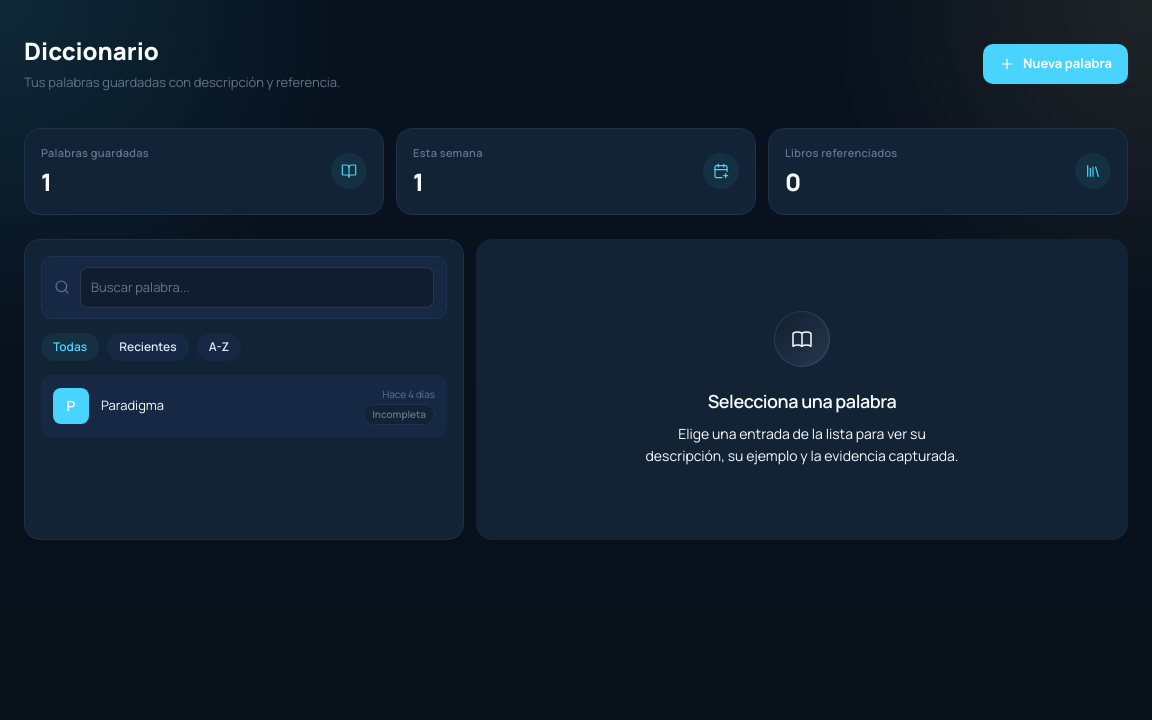
Test: DictionaryView detail panel (4C) › shows the empty state for a selected entry with no fields at all
The width and height of the screenshot is (1152, 720).
Click the button with test id "dictionary-row" at [71, 406], box [41,375,447,437]
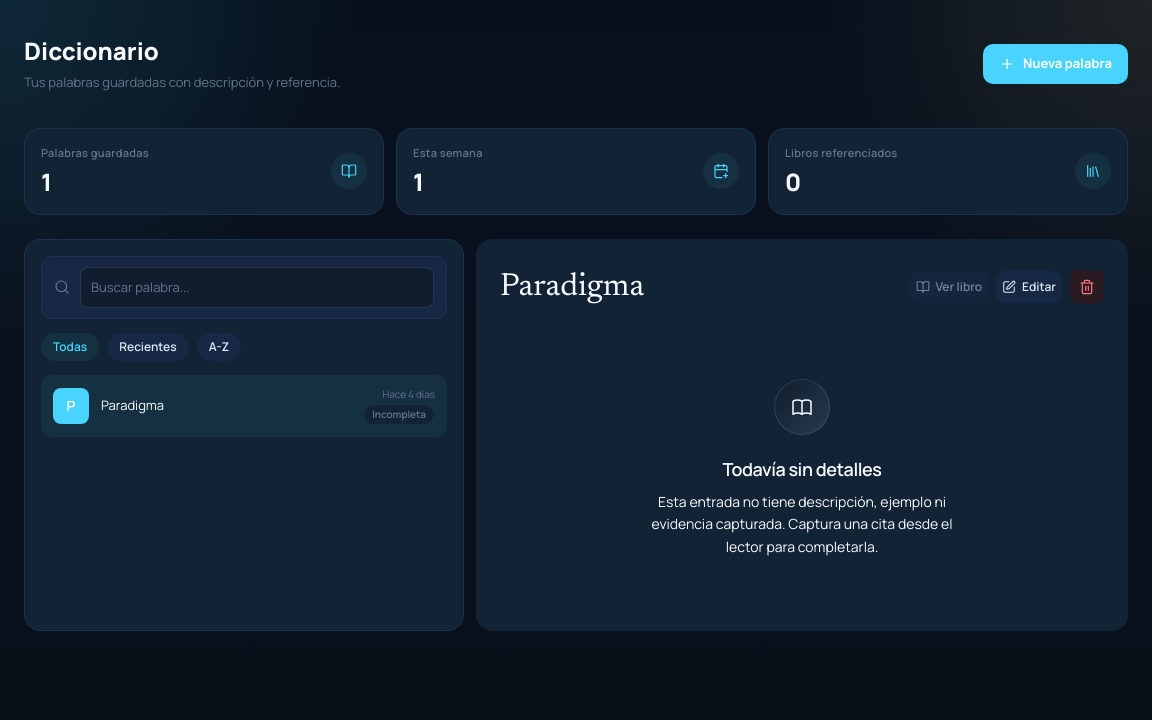
Check: the element with test id "dictionary-detail-empty" is shown, box [652,378,952,556]
Check: the heading "Todavía sin detalles" is shown, box [722,454,882,482]
Check: the element with test id "dictionary-detail-actions" is shown, box [910,270,1104,304]
